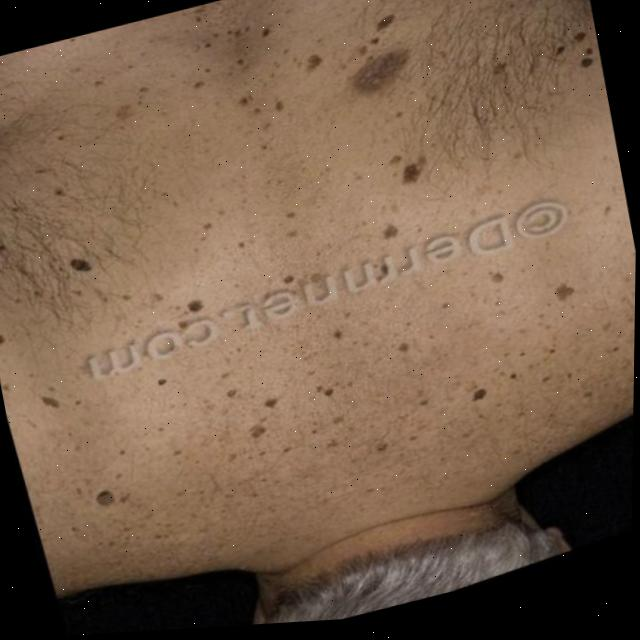Eczema: (0, 0, 640, 546)
